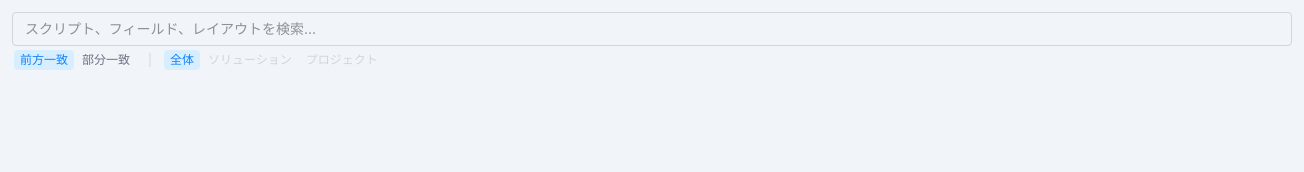
Test: SearchBar › clear_button_resets_query
Type "hello" into the field at x=652, y=29, box [12,12,1292,46]
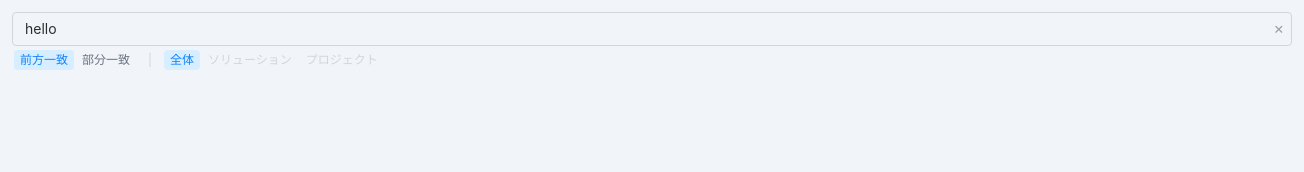
Click the button named "クリア" at x=1279, y=29, box [1273,15,1284,43]
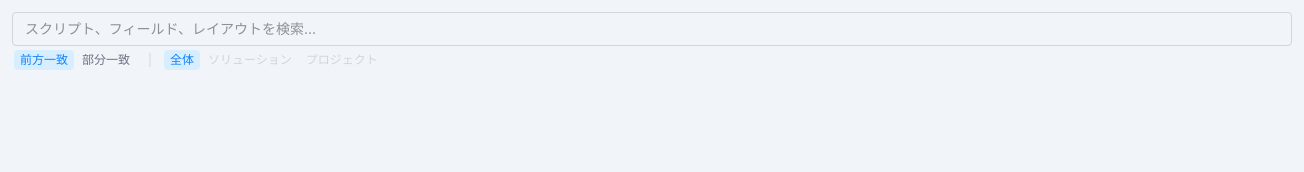
Check: the field is empty, box [12,12,1292,46]
